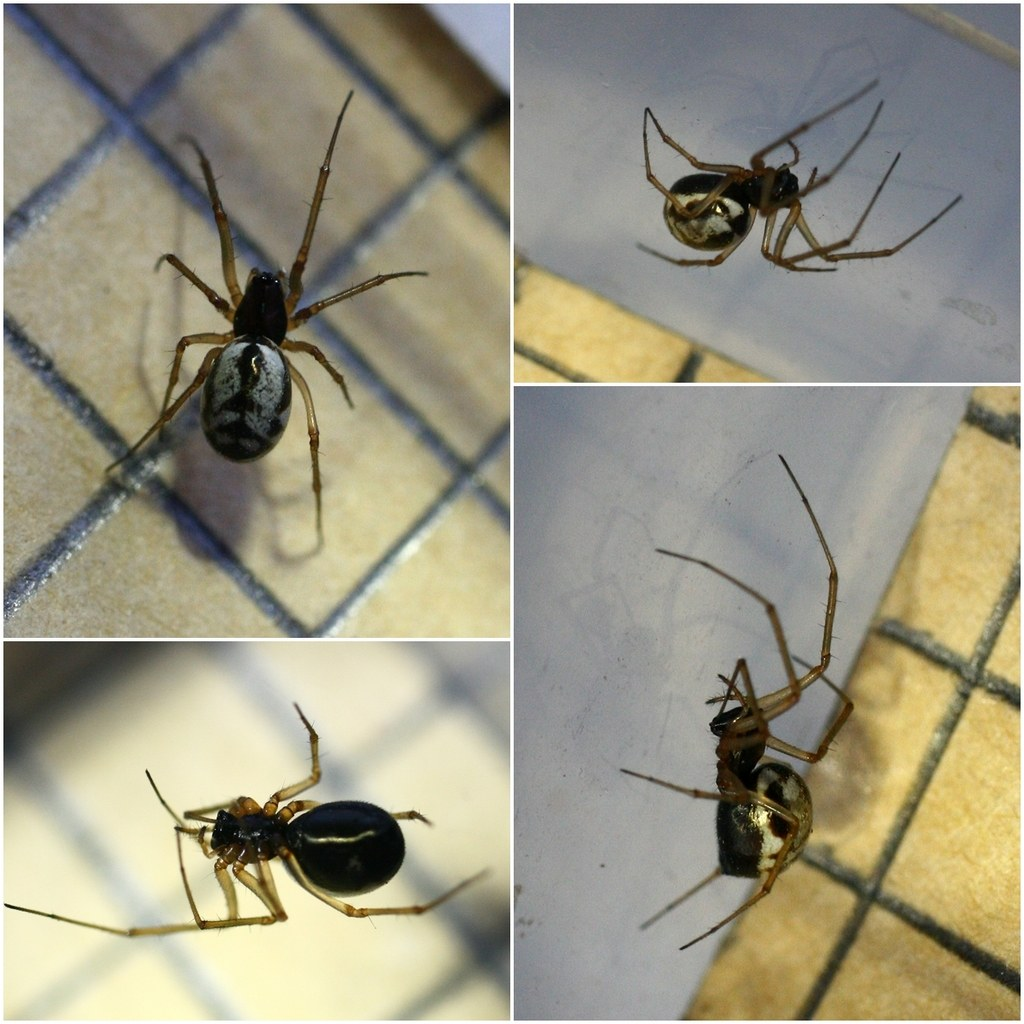insect: (104, 88, 430, 539), (100, 94, 434, 529), (613, 452, 859, 956), (0, 703, 493, 940), (0, 700, 490, 936), (623, 455, 857, 948), (633, 77, 966, 271), (634, 81, 964, 271)
